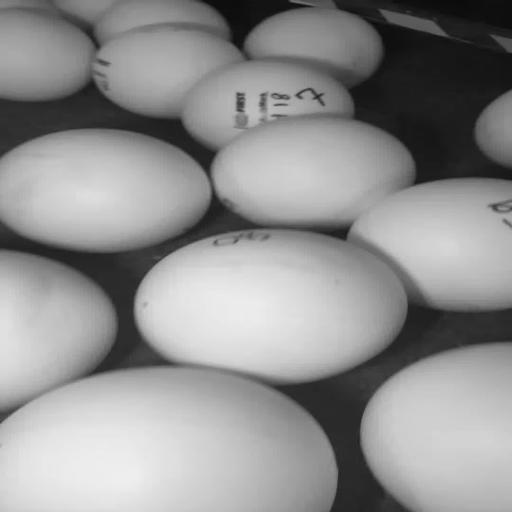fuel: (0, 366, 338, 511), (134, 229, 407, 385), (0, 129, 212, 252), (360, 342, 511, 511), (211, 114, 416, 231), (347, 178, 511, 312), (0, 250, 118, 412), (182, 60, 355, 151), (93, 24, 244, 119), (243, 7, 384, 89), (0, 8, 96, 102), (474, 89, 512, 169)
